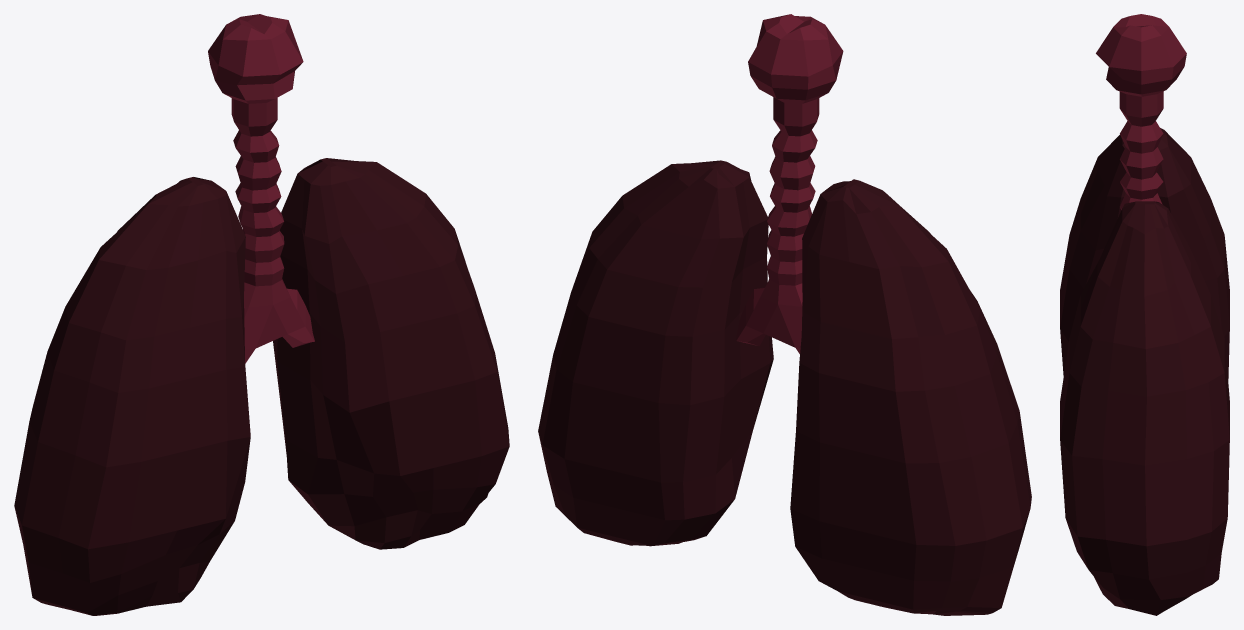
File: pulmon - dañado.obj
3 views of the same model, side by side, from view 1: azimuth 30°, elevation 25°; view 2: azimuth 150°, elevation 25°; view 3: azimuth 270°, elevation 25° (orthographic). The views are drawn at different scales.
Parts seen in each view (by area): view 1: Cube; view 2: Cube; view 3: Cube.
Part boxes in pixels (<box>): Cube: <box>14,14,509,615</box>; Cube: <box>538,14,1031,615</box>; Cube: <box>1060,14,1229,615</box>.
Size of the model in its own units: 2.79 by 3.06 by 0.9321.
